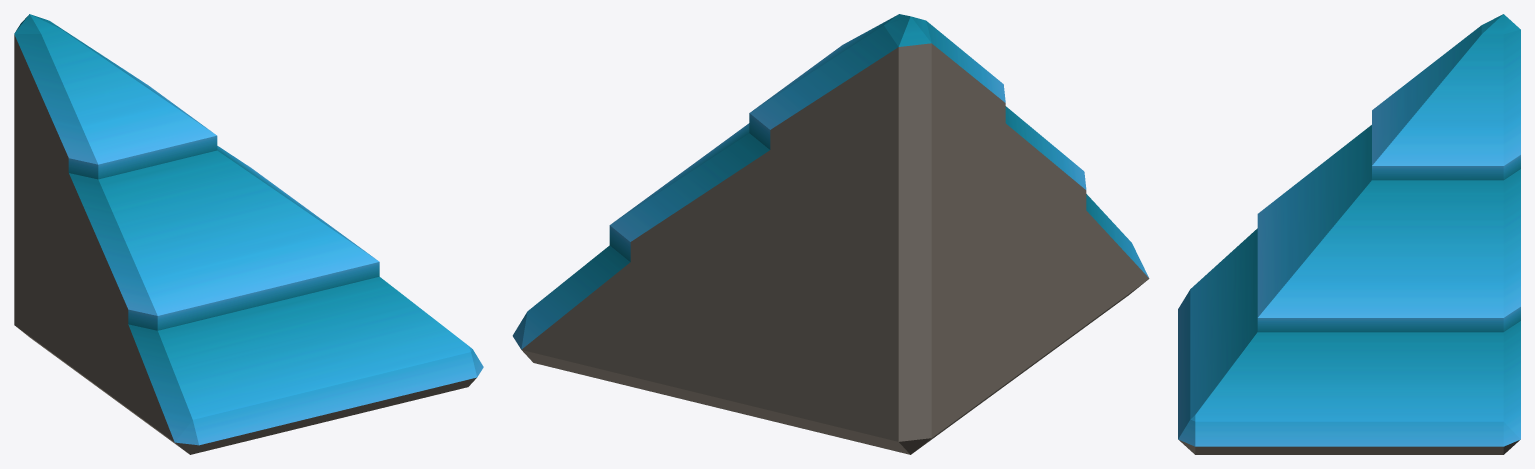
The model's file is m_kub_roofBlue_cornerOut.FBX.
3 renders of one model, left to right at view 1: azimuth 30°, elevation 25°; view 2: azimuth 150°, elevation 25°; view 3: azimuth 270°, elevation 25°, orthographic. The views are drawn at different scales.
Parts seen in each view (by area): view 1: m_kub_roofBlue_cornerOut; view 2: m_kub_roofBlue_cornerOut; view 3: m_kub_roofBlue_cornerOut.
Boxes of the visible parts, box(x1,y1,x2,y2) form: m_kub_roofBlue_cornerOut: box(14, 14, 483, 454); m_kub_roofBlue_cornerOut: box(512, 14, 1149, 454); m_kub_roofBlue_cornerOut: box(1178, 14, 1520, 454).
Size of the model in its own units: 2 by 2 by 2.
